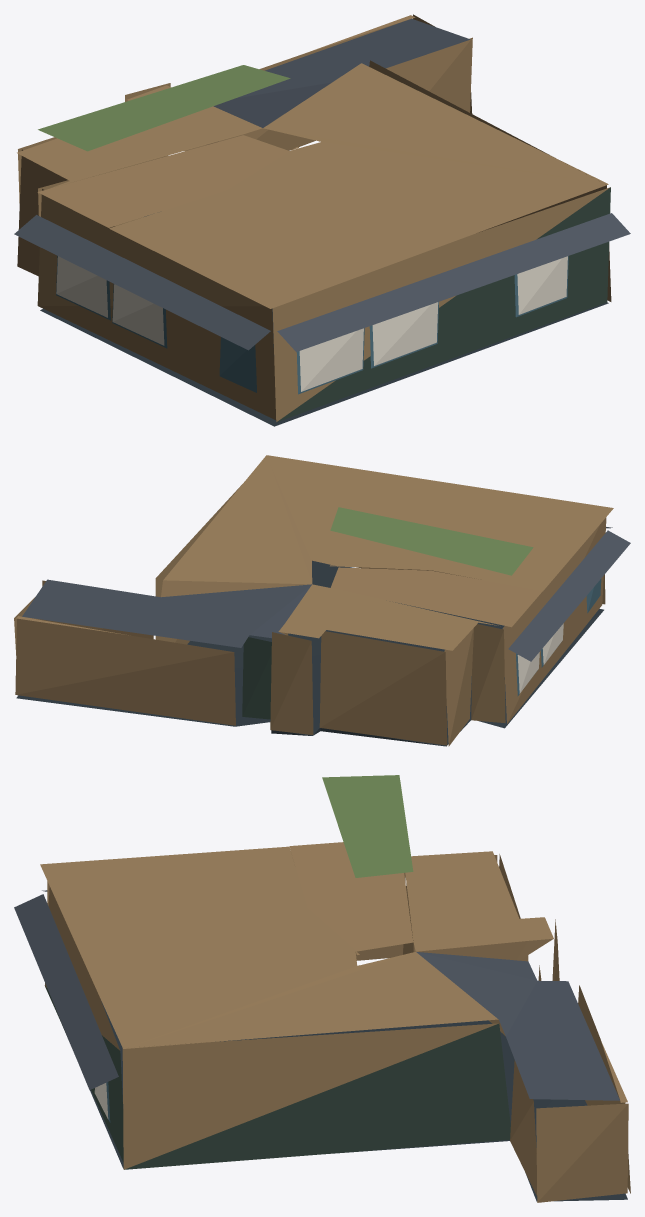
Rendered from hannekes-boom.lod2.glb.
The picture shows the model from 3 angles, top to bottom: view 1: azimuth 30°, elevation 25°; view 2: azimuth 150°, elevation 25°; view 3: azimuth 270°, elevation 25°; orthographic projection. The views are drawn at different scales.
Parts seen in each view (by area): view 1: lod2; view 2: lod2; view 3: lod2.
Boxes of the visible parts, x1=… form: lod2: x1=14, y1=14, x2=630, y2=426; lod2: x1=14, y1=455, x2=630, y2=746; lod2: x1=14, y1=775, x2=630, y2=1202.
Size of the model in its own units: 17.05 by 6.02 by 17.15.
